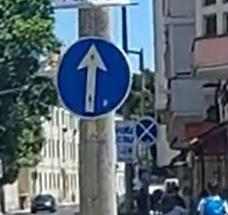sentido obrigatorio: (50, 34, 135, 120)
